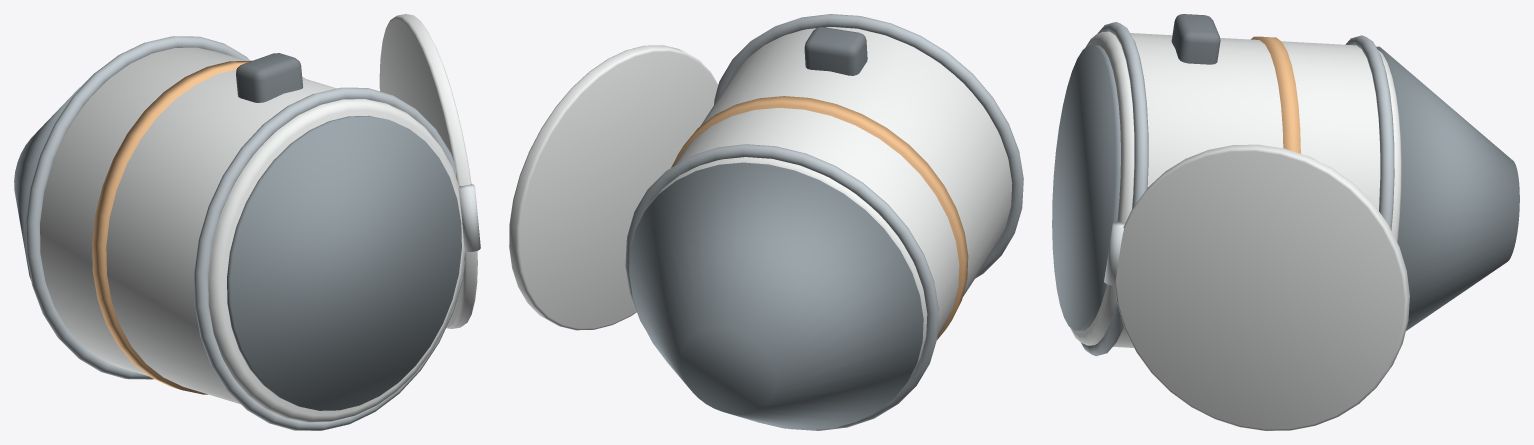
File: drone_capsule.glb
3 renders of one model, left to right at view 1: azimuth 30°, elevation 25°; view 2: azimuth 150°, elevation 25°; view 3: azimuth 270°, elevation 25°, orthographic. The views are drawn at different scales.
Visible parts, largest first — view 1: capsule_body_shell_white; view 2: capsule_body_shell_white; view 3: capsule_body_shell_white.
Boxes of the visible parts, left/top/right/bottom form: capsule_body_shell_white: left=14, top=14, right=480, bottom=430; capsule_body_shell_white: left=509, top=14, right=1023, bottom=430; capsule_body_shell_white: left=1052, top=14, right=1519, bottom=430.
Size of the model in its own units: 1.58 by 1.32 by 1.63.
